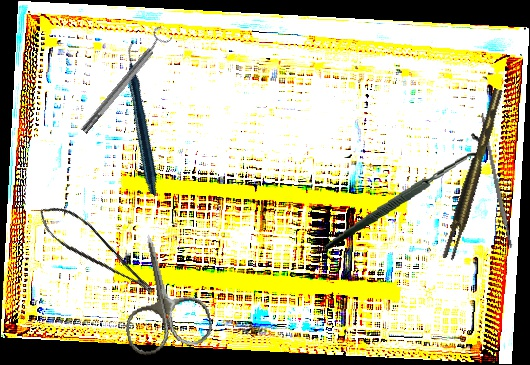Fixation Ring: (74, 25, 175, 138)
Handpiece: (74, 41, 214, 197)
Hook Surgical: (316, 130, 494, 251)
Iris Scissors: (107, 225, 216, 359)
Micro Scissor: (32, 192, 158, 314)
Scalpel Handle: (478, 112, 514, 250)
Tissue Forceps: (436, 87, 512, 262)
